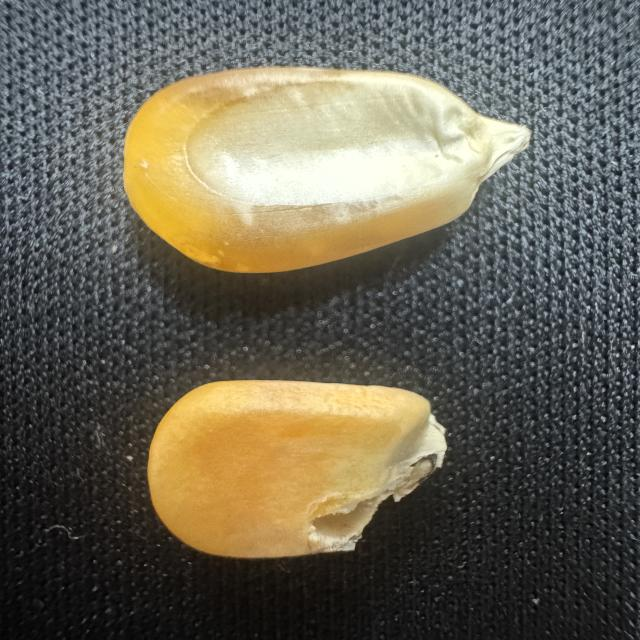Bad-Seed: (140, 378, 479, 567)
Good-Seed: (113, 62, 546, 274)
